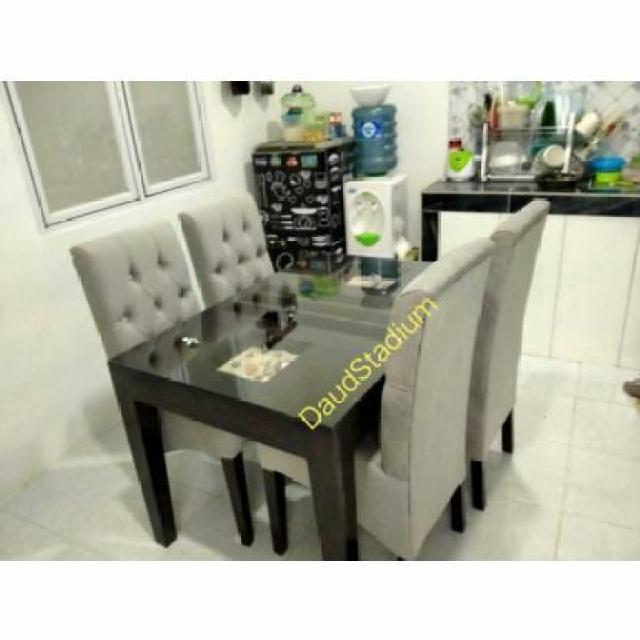tables: (107, 252, 436, 558)
